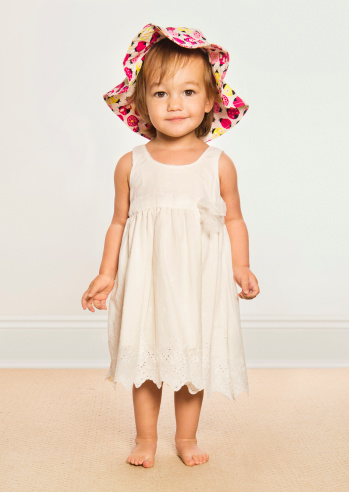em pe: (79, 37, 249, 477)
